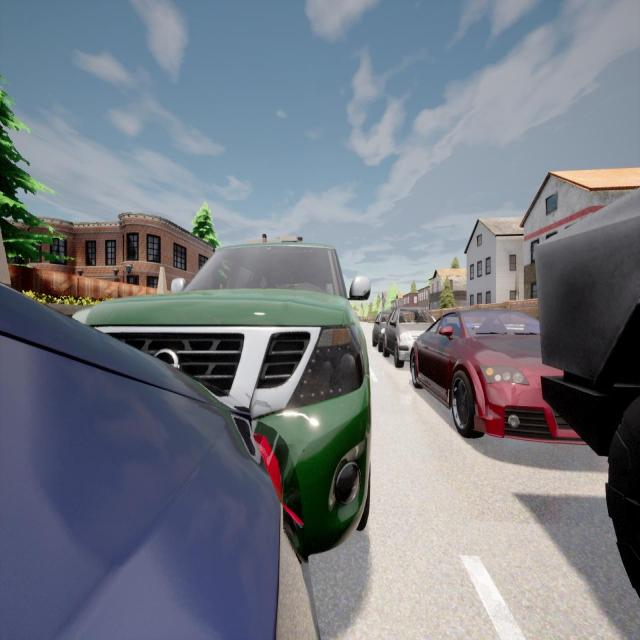Vehicle: (0, 283, 318, 640), (70, 244, 374, 558), (535, 190, 639, 596), (411, 308, 588, 445), (383, 306, 437, 368), (372, 310, 392, 347)
